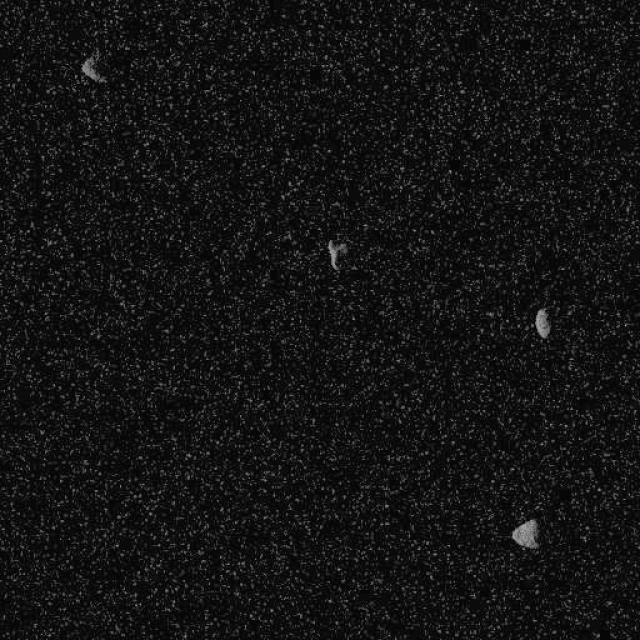D2: (80, 50, 108, 84), (510, 518, 539, 550), (325, 239, 346, 270), (534, 306, 551, 339)
